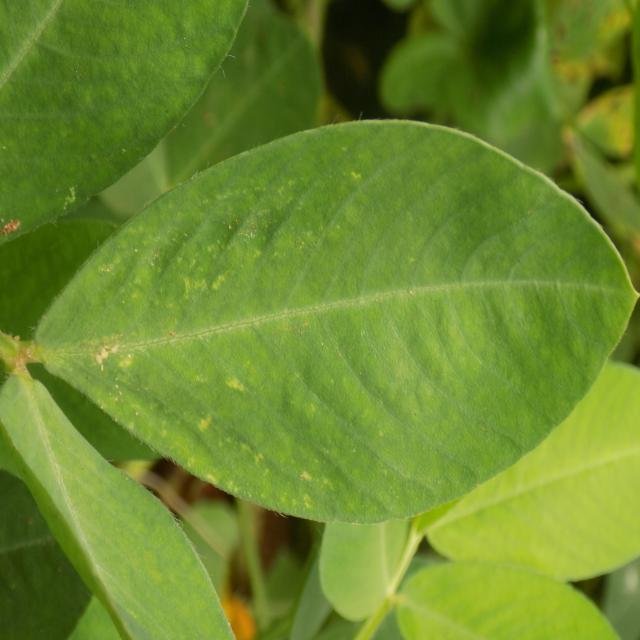Ground nut_healthy: (33, 121, 640, 526)
